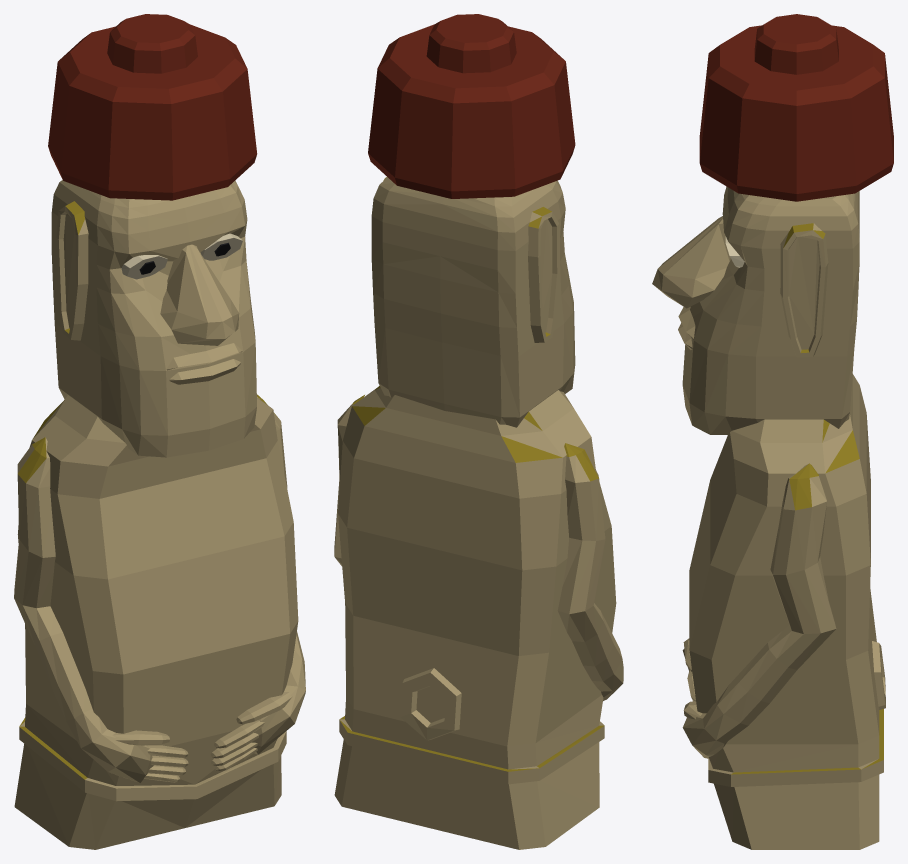
File: standing-moai-caa54f.glb
3 renders of one model, left to right at view 1: azimuth 30°, elevation 25°; view 2: azimuth 150°, elevation 25°; view 3: azimuth 270°, elevation 25°, orthographic.
Visible parts, largest first — view 1: moai, pukao-drum; view 2: moai, pukao-drum; view 3: moai, pukao-drum.
Boxes of the visible parts, left/top/right/bottom form: moai: left=14, top=180, right=305, bottom=849; pukao-drum: left=48, top=14, right=257, bottom=200; moai: left=334, top=177, right=623, bottom=849; pukao-drum: left=368, top=14, right=575, bottom=198; moai: left=652, top=186, right=885, bottom=849; pukao-drum: left=699, top=14, right=893, bottom=201.
Bounding box in the file's own units: 2.14 × 6.13 × 1.75.
